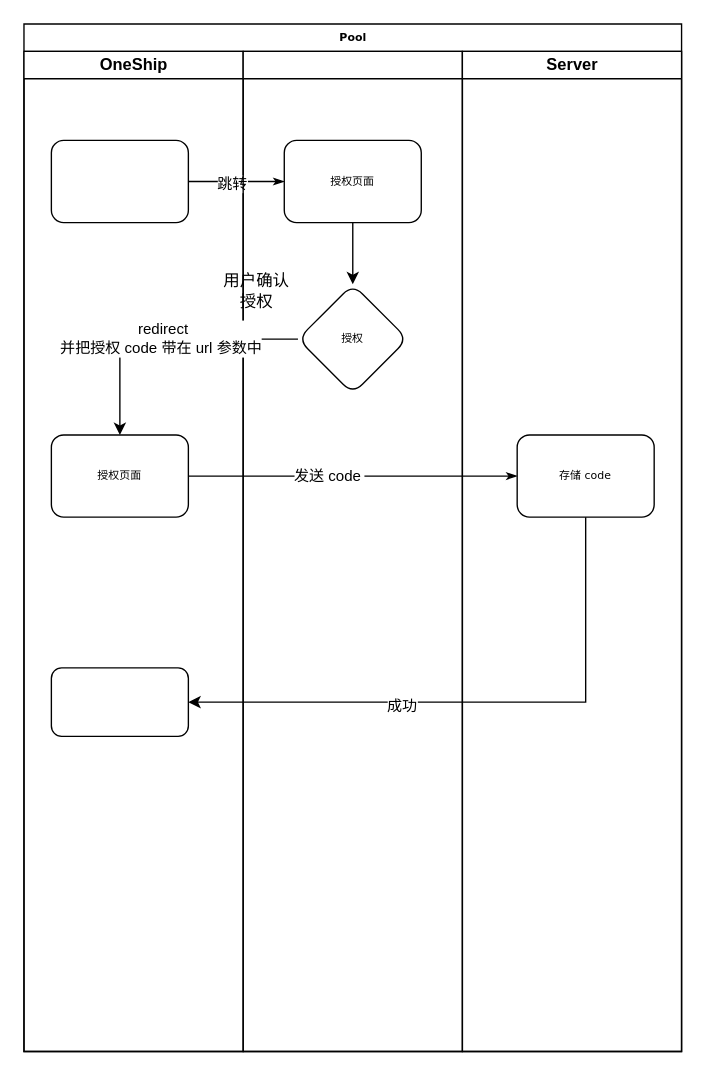
The diagram is 706 pixels wide and 1075 high, and some of its shapes have lost their labels. The box of each missing label's shape, as (x1, y1, x2, y2) in pixels:
Shopify: (242, 50, 462, 1051)
商店列表页发起授权: (50, 139, 188, 223)
商店列表页面: (50, 667, 188, 736)
